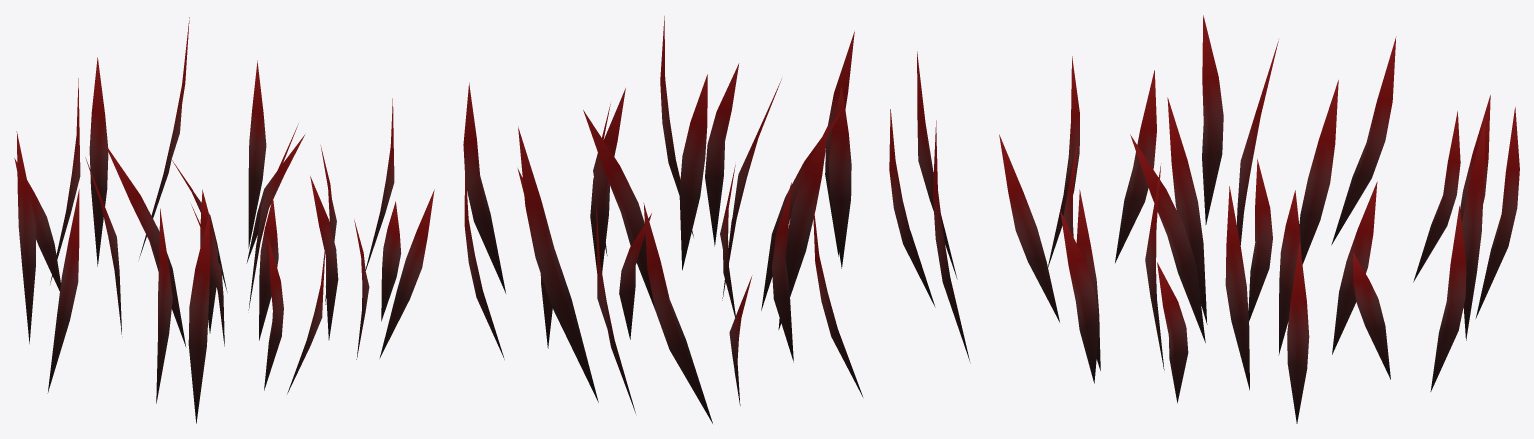
Rendered from Grass_1.fbx.
The picture shows the model from 3 angles, left to right: view 1: azimuth 30°, elevation 25°; view 2: azimuth 150°, elevation 25°; view 3: azimuth 270°, elevation 25°; orthographic projection. The views are drawn at different scales.
Visible parts, largest first — view 1: Grass; view 2: Grass; view 3: Grass.
Boxes of the visible parts, x1=… form: Grass: x1=14, y1=17, x2=434, y2=423; Grass: x1=463, y1=16, x2=970, y2=423; Grass: x1=999, y1=15, x2=1519, y2=423.
Size of the model in its own units: 782 by 439 by 790.
